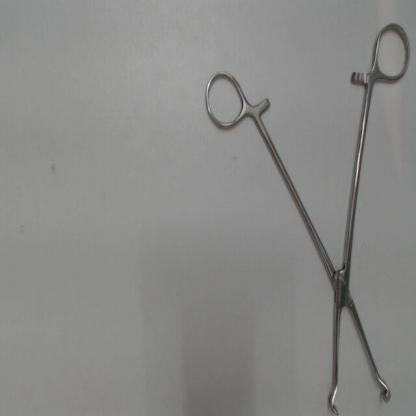8 Babcock Tissue Forceps: (195, 15, 413, 415)
